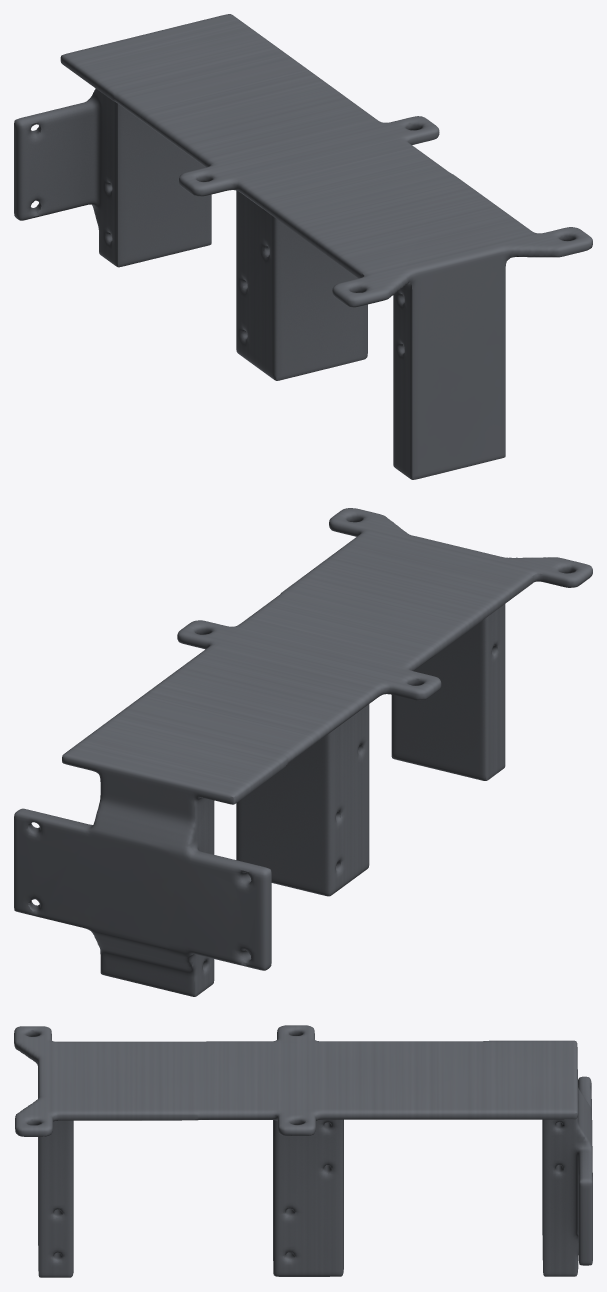
Rendered from right_forarm_internal_support.obj.
3 renders of one model, top to bottom at view 1: azimuth 30°, elevation 25°; view 2: azimuth 150°, elevation 25°; view 3: azimuth 270°, elevation 25°, orthographic. The views are drawn at different scales.
Parts seen in each view (by area): view 1: right_forarm_internal_support; view 2: right_forarm_internal_support; view 3: right_forarm_internal_support.
Boxes of the visible parts, x1,y1,x2,y2 form: right_forarm_internal_support: (14,14,592,479); right_forarm_internal_support: (14,508,592,996); right_forarm_internal_support: (14,1025,592,1277).
Bounding box in the file's own units: 0.0443 × 0.0352 × 0.1015.
1 material, 1 textured.
